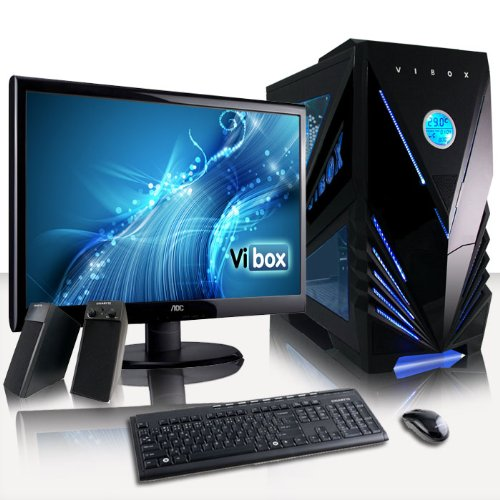Teclado: (127, 389, 388, 483)
